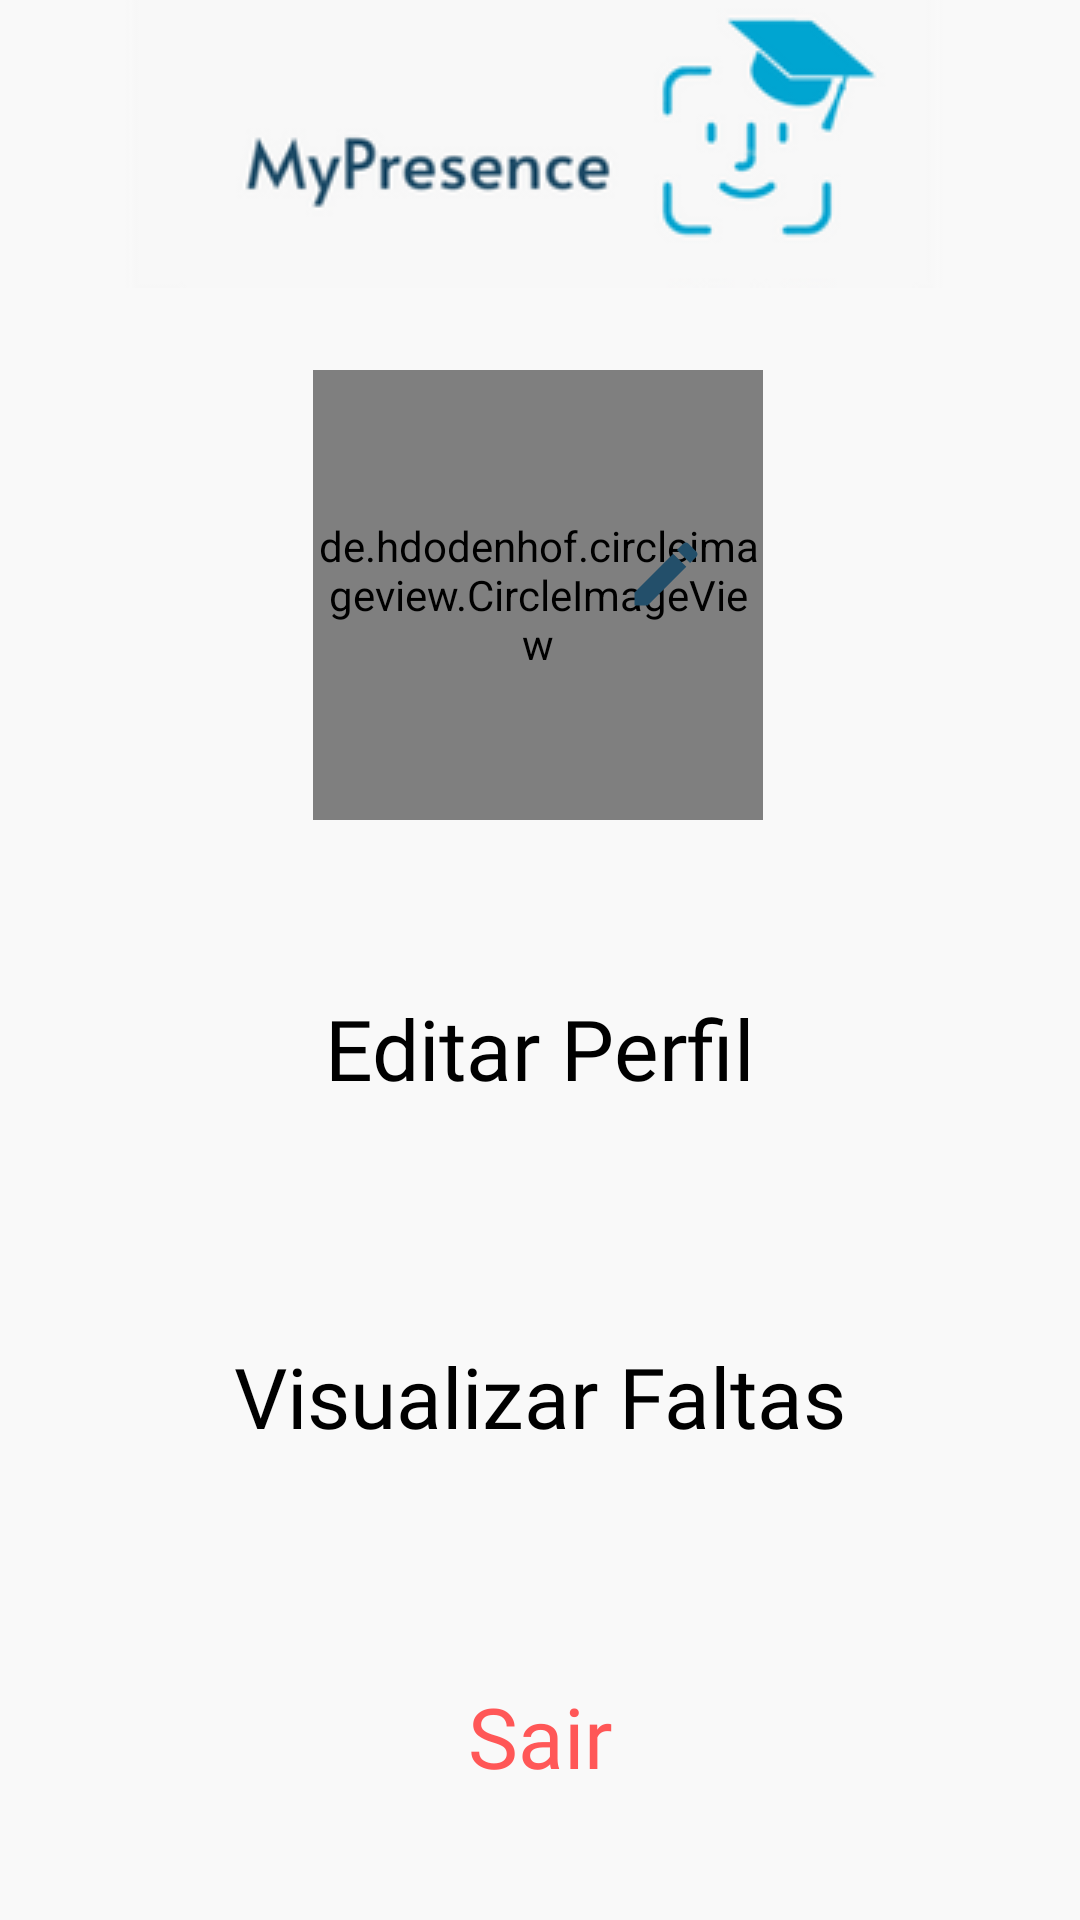

Icon click points for this 1080 x 1920 phone screenshot, format (x=x, y=y):
edit: (x=661, y=574)
